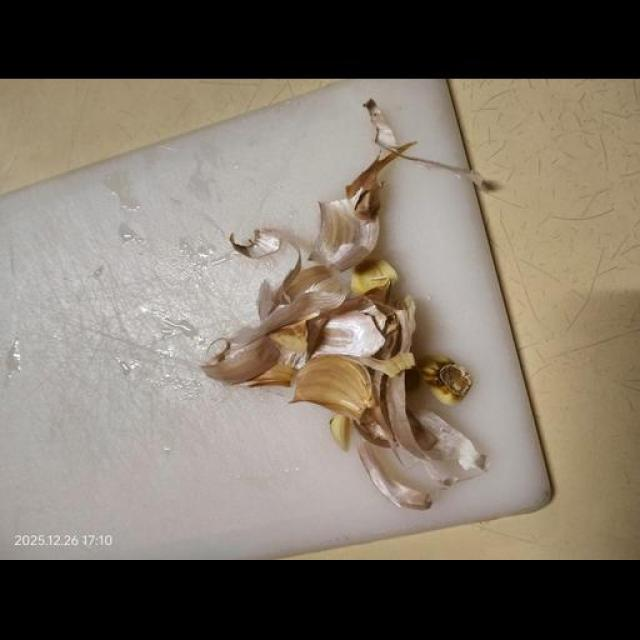organic: (169, 91, 591, 551)
